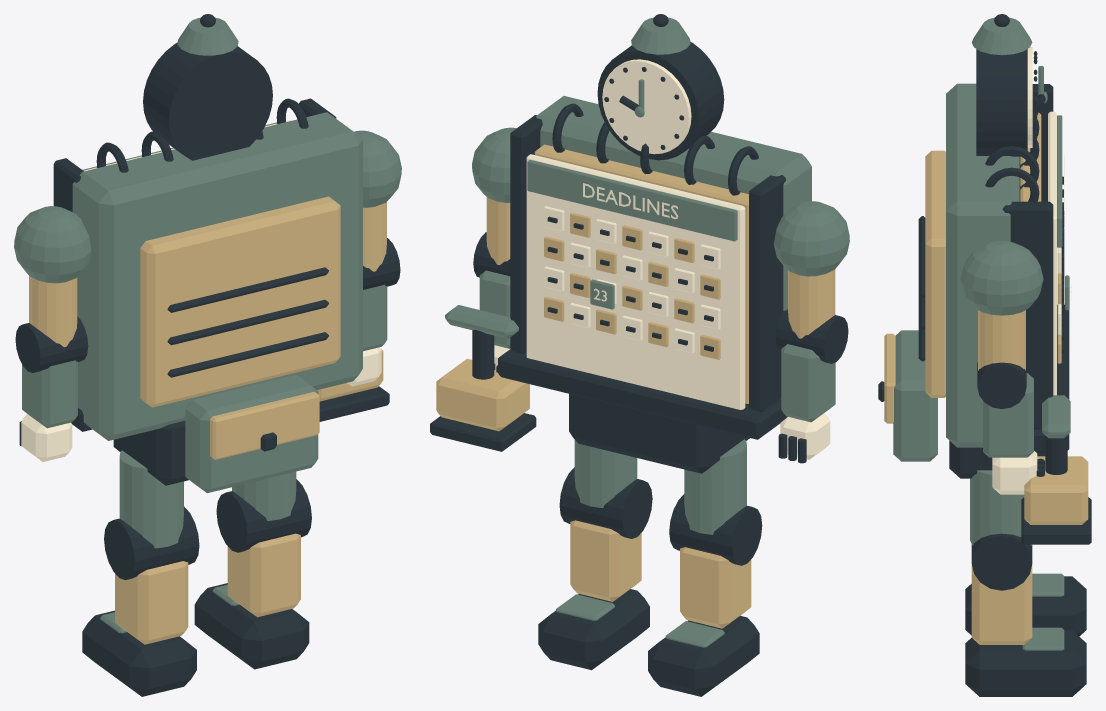
3 renders of one model, left to right at view 1: azimuth 30°, elevation 25°; view 2: azimuth 150°, elevation 25°; view 3: azimuth 270°, elevation 25°, orthographic. The views are drawn at different scales.
Parts seen in each view (by area): view 1: calendar_backboard, rear_briefcase_panel, clock_head, satchel_case, right_shoe, left_shoe, left_shin, right_shin, left_shoulder_cap, satchel_flap, left_thigh, right_knee_pin (+19 smaller); view 2: front_calendar_leaf, calendar_backboard, calendar_bottom_rail, pelvis_housing, left_binding_cheek, month_banner, clock_face, right_shoe, left_shoe, clock_head, right_shin, left_shin (+23 smaller); view 3: calendar_backboard, right_shoe, right_binding_cheek, rear_briefcase_panel, clock_head, right_shoulder_cap, satchel_case, right_shin, date_stamp_housing, right_forearm, right_knee_pin, right_thigh (+21 smaller).
Part boxes in pixels (<box>): calendar_backboard: <box>72,112,362,440</box>; rear_briefcase_panel: <box>140,196,340,407</box>; clock_head: <box>143,42,272,160</box>; satchel_case: <box>185,375,318,493</box>; right_shoe: <box>194,583,309,669</box>; left_shoe: <box>82,610,196,696</box>; left_shin: <box>115,561,188,644</box>; right_shin: <box>227,533,300,617</box>; left_shoulder_cap: <box>14,206,91,283</box>; satchel_flap: <box>210,391,319,459</box>; left_thigh: <box>119,450,183,548</box>; right_knee_pin: <box>216,479,311,552</box>; front_calendar_leaf: <box>526,154,745,409</box>; calendar_backboard: <box>536,96,811,398</box>; calendar_bottom_rail: <box>498,349,787,439</box>; pelvis_housing: <box>569,394,749,473</box>; left_binding_cheek: <box>749,175,785,411</box>; month_banner: <box>527,159,737,241</box>; clock_face: <box>602,59,691,154</box>; right_shoe: <box>538,589,649,670</box>; left_shoe: <box>648,615,759,696</box>; clock_head: <box>597,41,724,160</box>; right_shin: <box>570,520,641,601</box>; left_shin: <box>680,547,751,628</box>; calendar_backboard: <box>946,83,1019,447</box>; right_shoe: <box>965,630,1086,696</box>; right_binding_cheek: <box>1002,201,1053,429</box>; rear_briefcase_panel: <box>925,150,945,397</box>; clock_head: <box>976,49,1027,156</box>; right_shoulder_cap: <box>960,240,1043,315</box>; satchel_case: <box>893,330,937,461</box>; right_shin: <box>971,564,1032,644</box>; date_stamp_housing: <box>1024,456,1088,524</box>; right_forearm: <box>983,373,1033,457</box>; right_knee_pin: <box>971,533,1032,590</box>; right_thigh: <box>970,470,1031,545</box>.
Size of the model in its own units: 1.36 by 2.22 by 0.6665.
